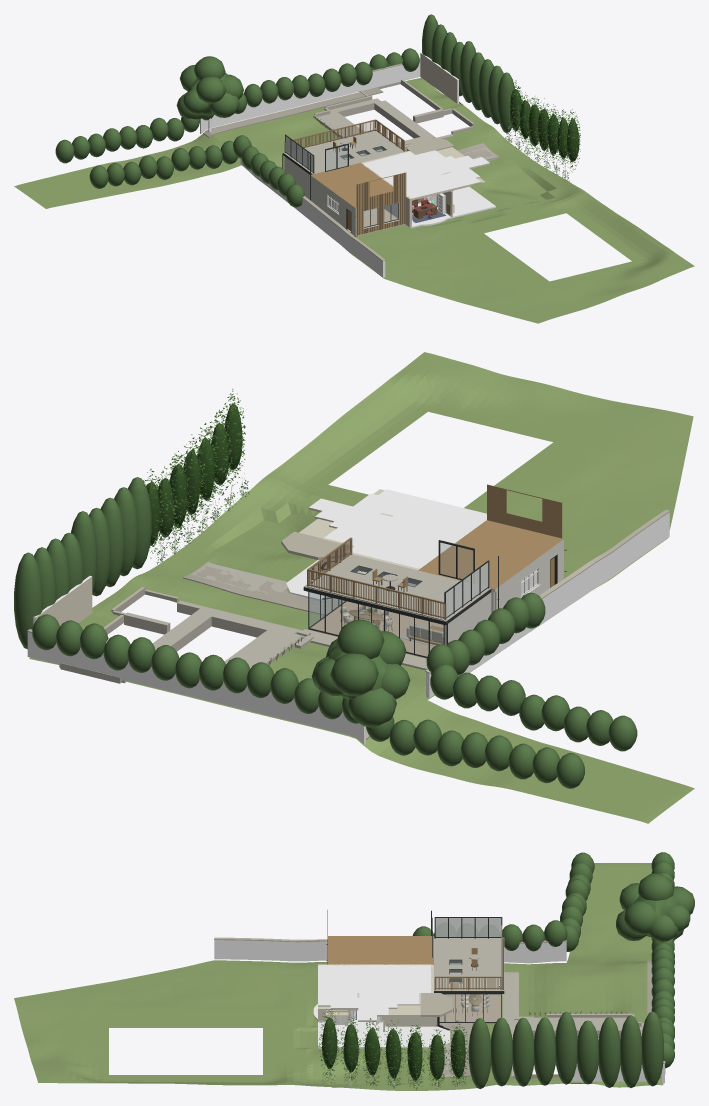
3 renders of one model, top to bottom at view 1: azimuth 30°, elevation 25°; view 2: azimuth 150°, elevation 25°; view 3: azimuth 270°, elevation 25°, orthographic. The views are drawn at different scales.
Parts seen in each view (by area): view 1: Proposal revision | Plot ground - title plan approximate, Proposal | Boundary leaf detail East, Main rear garden niche wall, Proposal | Terrace continuous stone finish, Proposal | Side wing first floor, Proposal | Side wing front oak cladding, Proposal revision | Western house boundary wall, Rear wall garden path, Bedroom 3 | floor, Landing | floor, Proposal | Pool terrace.003, Boundary hedge.008 (+13 smaller); view 2: Proposal revision | Plot ground - title plan approximate, Proposal | Boundary leaf detail East, Main rear garden niche wall, Proposal | Side wing first floor, Proposal | Terrace continuous stone finish, Proposal revision | Western house boundary wall, Proposal revision | Rear terrace paving, Bedroom 3 | floor, Landing | floor, Proposal | Side wing front oak cladding, Boundary hedge, Bedroom 4 | floor (+56 smaller); view 3: Proposal revision | Plot ground - title plan approximate, Proposal | Boundary leaf detail East, Proposal | Terrace continuous stone finish, Proposal revision | Western house boundary wall, Proposal | Side wing first floor, Boundary hedge, Boundary hedge.004, Boundary hedge.001, Boundary hedge.002, Boundary hedge.008, Landing | floor, Boundary hedge.006 (+26 smaller).
Boxes of the visible parts, x1=… form: Proposal revision | Plot ground - title plan approximate: x1=14, y1=77, x2=694, y2=323; Proposal | Boundary leaf detail East: x1=505, y1=80, x2=580, y2=181; Main rear garden niche wall: x1=200, y1=61, x2=420, y2=133; Proposal | Terrace continuous stone finish: x1=283, y1=131, x2=405, y2=174; Proposal | Side wing first floor: x1=311, y1=162, x2=393, y2=209; Proposal | Side wing front oak cladding: x1=356, y1=172, x2=406, y2=235; Proposal revision | Western house boundary wall: x1=240, y1=158, x2=385, y2=277; Rear wall garden path: x1=203, y1=87, x2=383, y2=137; Bedroom 3 | floor: x1=362, y1=151, x2=433, y2=175; Landing | floor: x1=422, y1=155, x2=489, y2=186; Proposal | Pool terrace.003: x1=374, y1=100, x2=430, y2=138; Boundary hedge.008: x1=497, y1=72, x2=514, y2=132; Proposal revision | Plot ground - title plan approximate: x1=29, y1=352, x2=694, y2=823; Proposal | Boundary leaf detail East: x1=143, y1=389, x2=249, y2=564; Main rear garden niche wall: x1=27, y1=632, x2=365, y2=744; Proposal | Side wing first floor: x1=418, y1=520, x2=563, y2=592; Proposal | Terrace continuous stone finish: x1=304, y1=554, x2=490, y2=621; Proposal revision | Western house boundary wall: x1=426, y1=512, x2=669, y2=698; Proposal revision | Rear terrace paving: x1=183, y1=562, x2=344, y2=615; Bedroom 3 | floor: x1=348, y1=525, x2=444, y2=569; Landing | floor: x1=308, y1=489, x2=410, y2=529; Proposal | Side wing front oak cladding: x1=487, y1=484, x2=562, y2=538; Boundary hedge: x1=14, y1=552, x2=42, y2=649; Bedroom 4 | floor: x1=393, y1=500, x2=486, y2=534; Proposal revision | Plot ground - title plan approximate: x1=14, y1=863, x2=663, y2=1090; Proposal | Boundary leaf detail East: x1=318, y1=1009, x2=468, y2=1090; Proposal | Terrace continuous stone finish: x1=434, y1=937, x2=504, y2=990; Proposal revision | Western house boundary wall: x1=214, y1=940, x2=566, y2=963; Proposal | Side wing first floor: x1=328, y1=936, x2=433, y2=964; Boundary hedge: x1=641, y1=1011, x2=663, y2=1086; Boundary hedge.004: x1=555, y1=1012, x2=577, y2=1084; Boundary hedge.001: x1=620, y1=1015, x2=641, y2=1087; Boundary hedge.002: x1=598, y1=1017, x2=620, y2=1087; Boundary hedge.008: x1=468, y1=1018, x2=490, y2=1088; Landing | floor: x1=318, y1=986, x2=388, y2=1021; Boundary hedge.006: x1=512, y1=1017, x2=533, y2=1086.
Size of the model in its own units: 44.11 by 8.46 by 52.36.
Materials: 82 (5 with a texture image).
